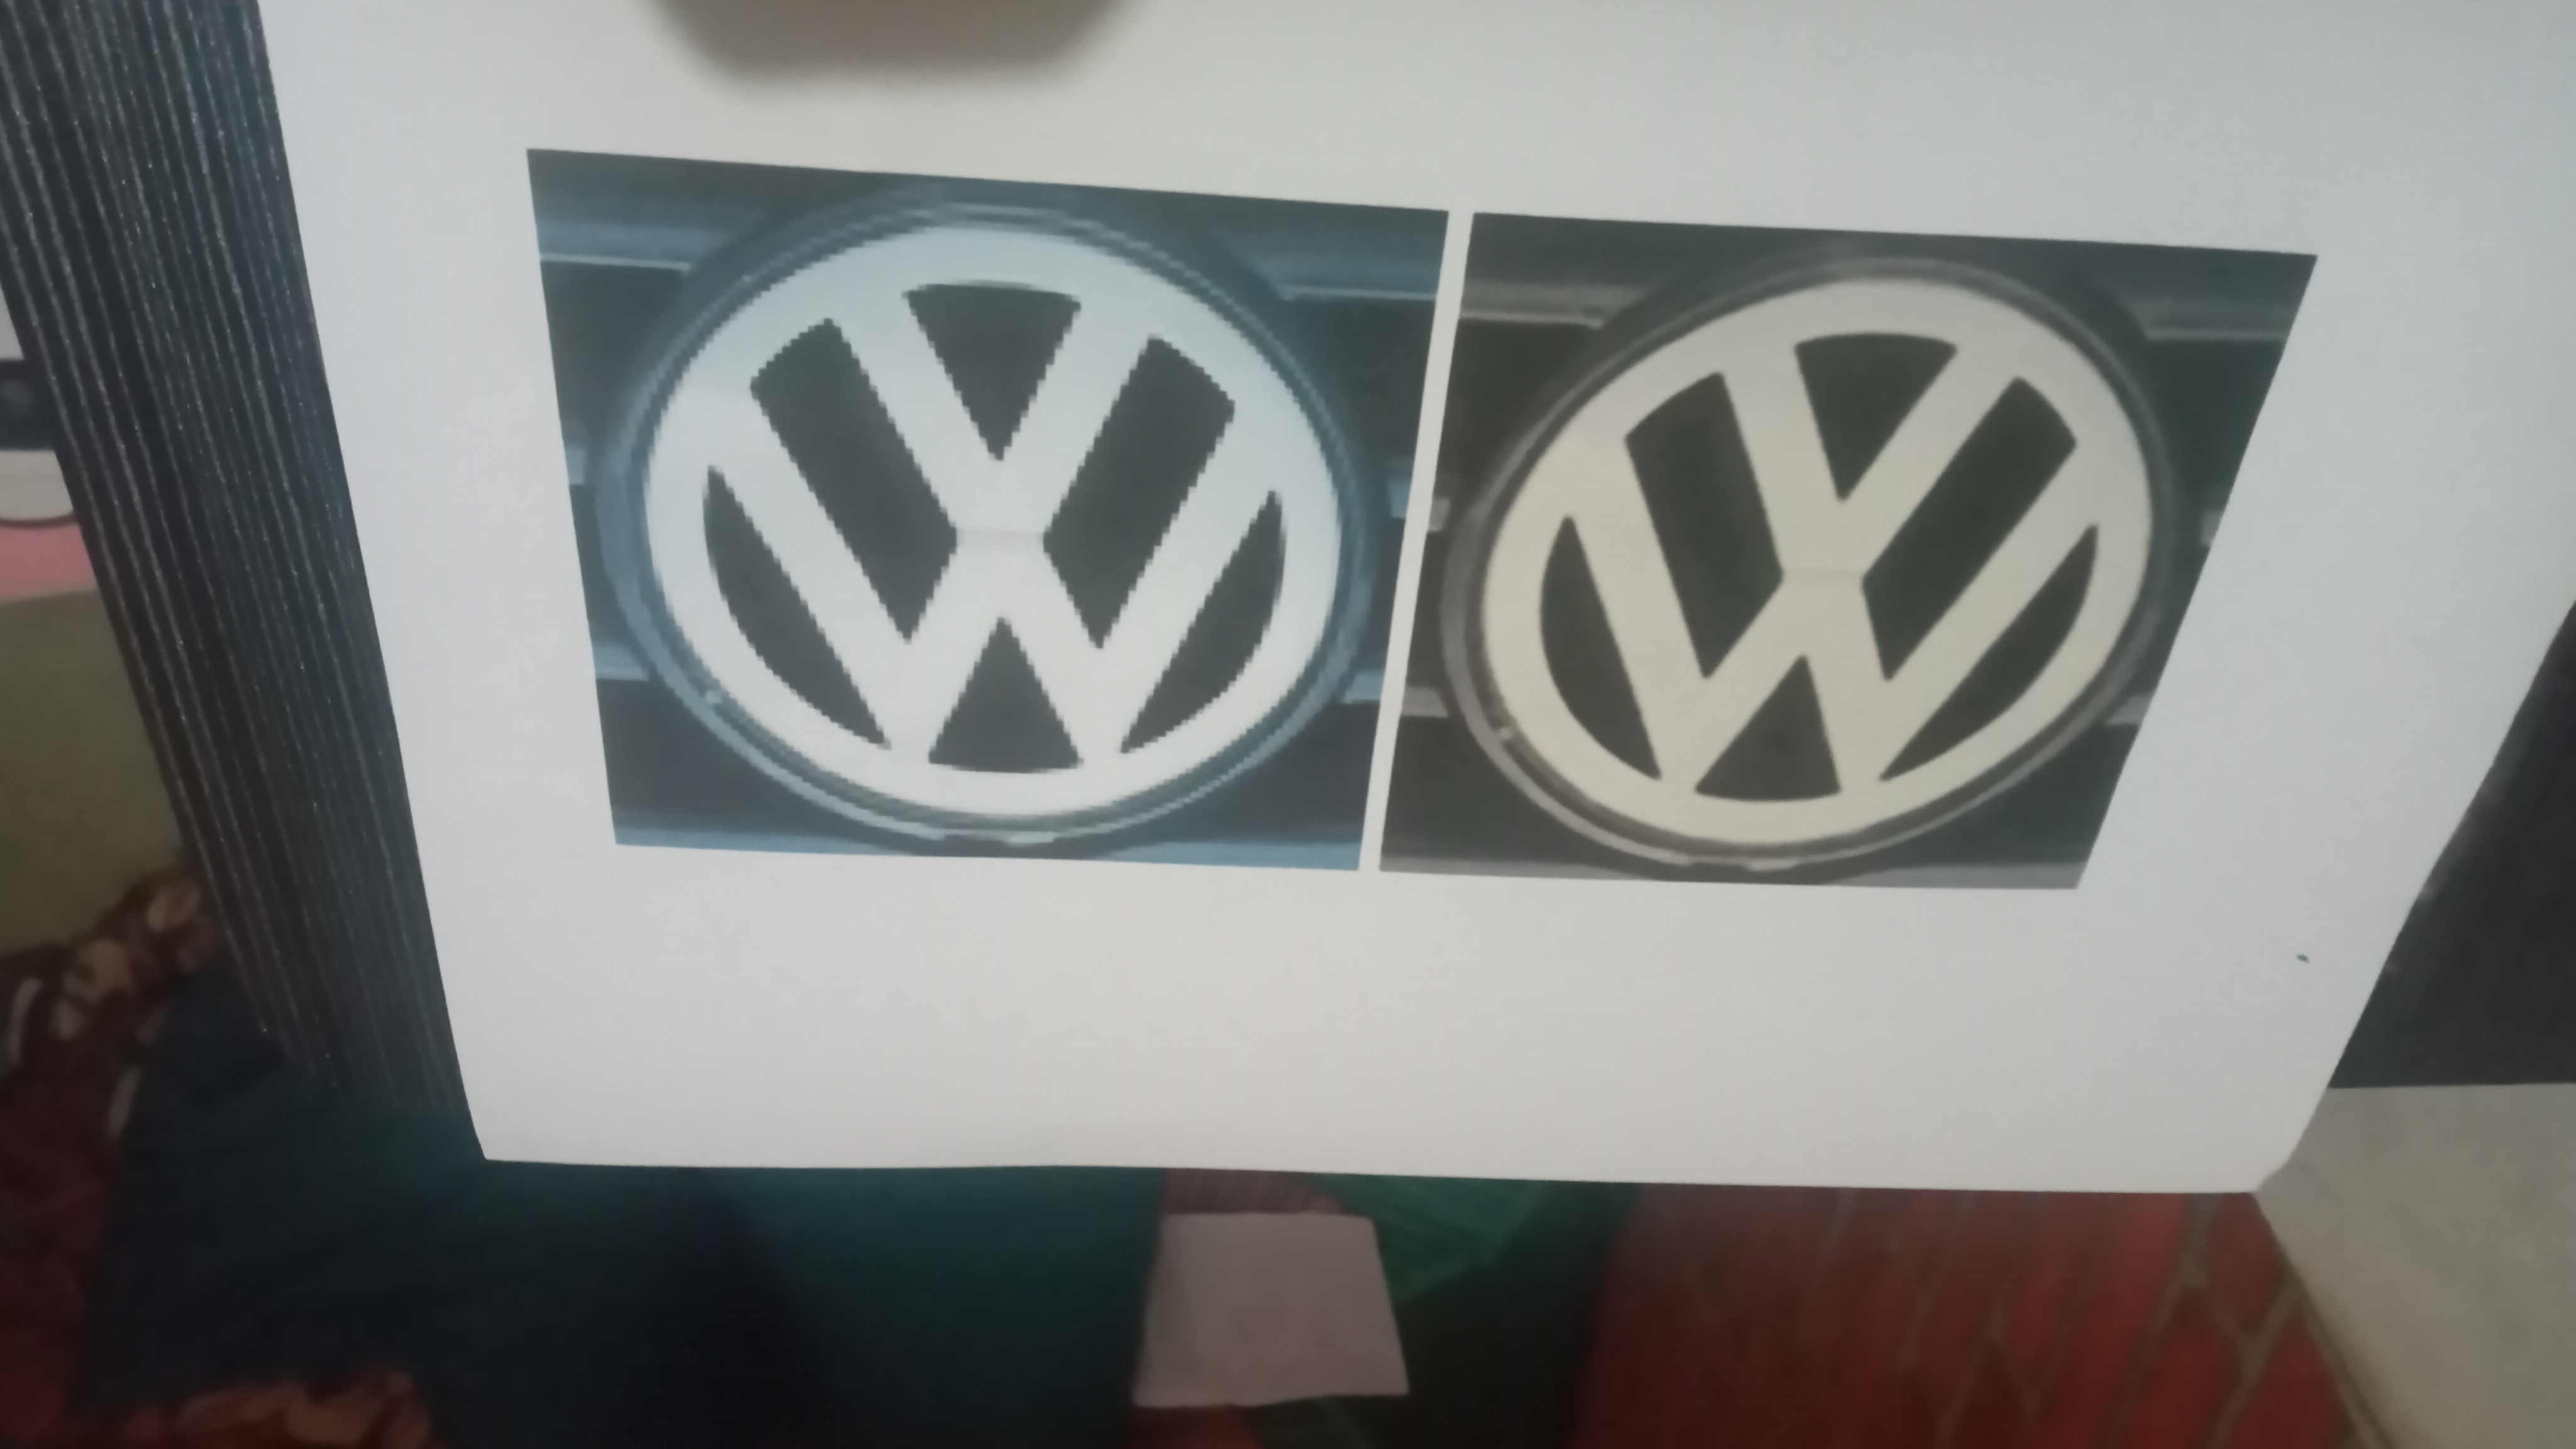Volkswagen: (607, 182, 1359, 851), (1467, 249, 2160, 863)
